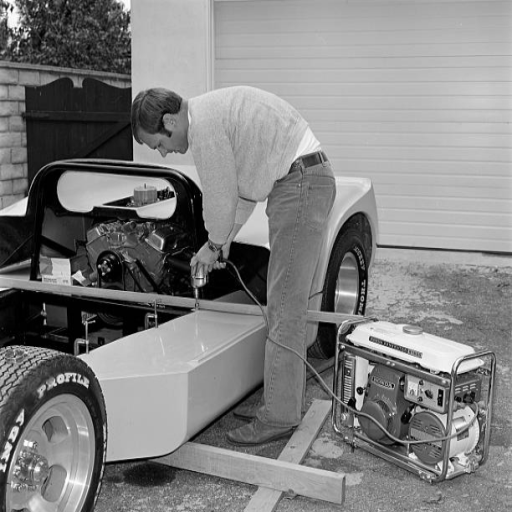portable_generator: (334, 315, 497, 484)
